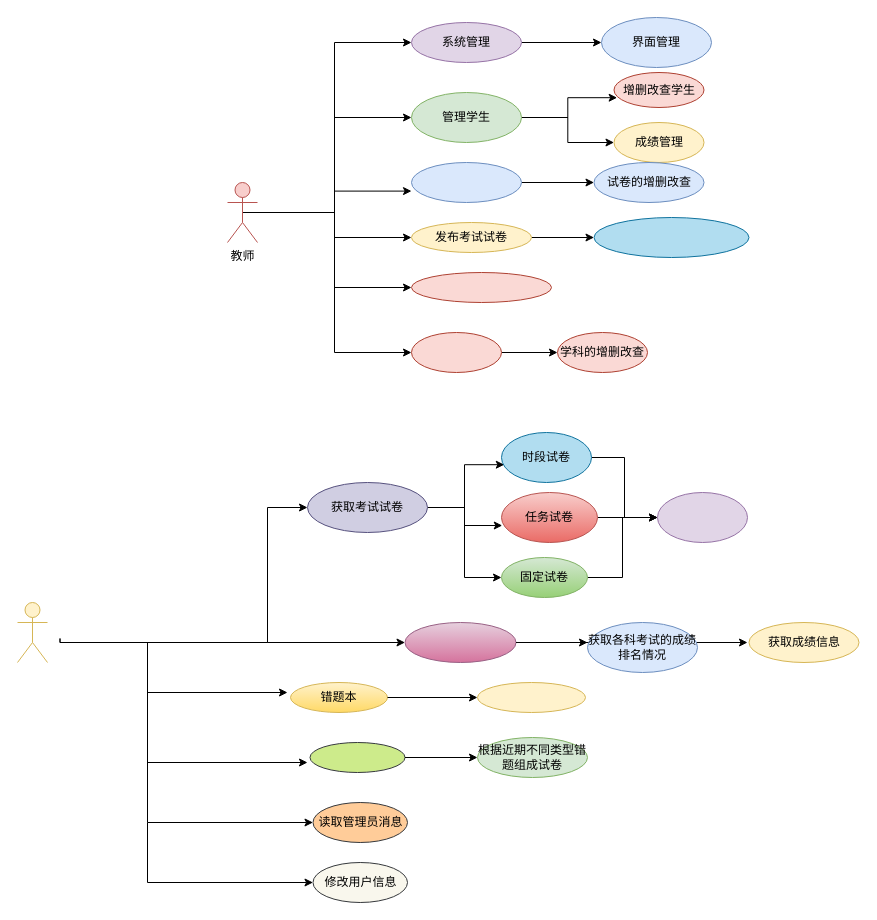
This 877x920 diagram has some shape labels left out. The shapes that lost their labels are listed below. From the top down, each one's centre as x and y in pixels, then its label:
(466,182): 抽取试题组成试卷
(671,237): 发布时段试卷或者是固定试卷
(481,287): 发布通知类消息
(456,352): 学科管理
(702,517): 作答试卷
(32,632): 学生
(460,642): 考试记录
(531,697): 检索错题本
(357,757): 智能训练
